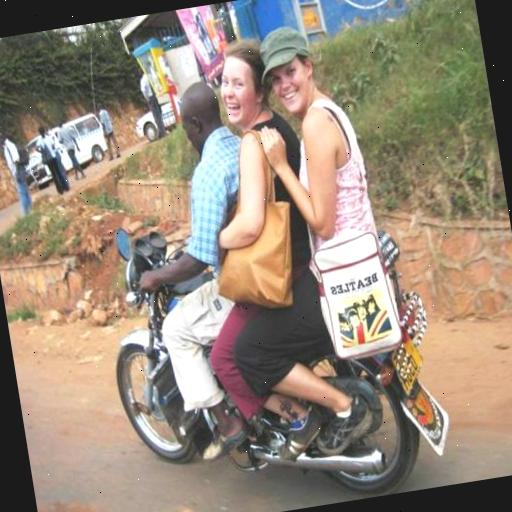no helmet: (156, 56, 234, 166)
triple riding: (62, 9, 476, 512)
